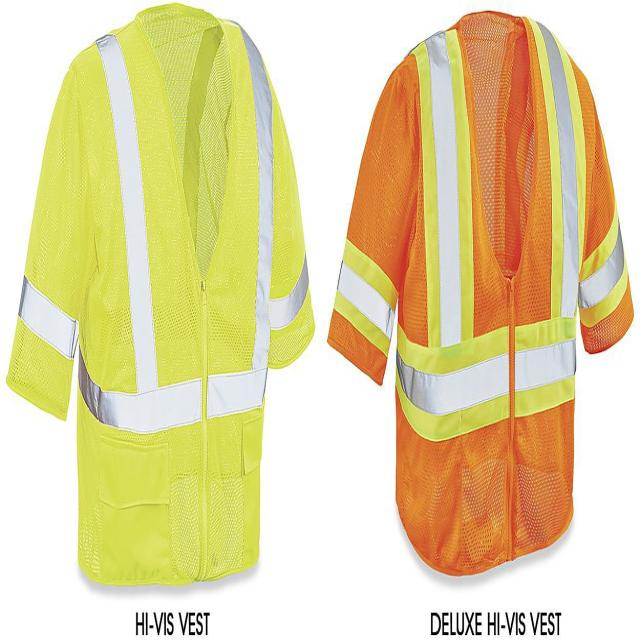Reflective-Jacket: (7, 1, 320, 601), (322, 5, 634, 581)
